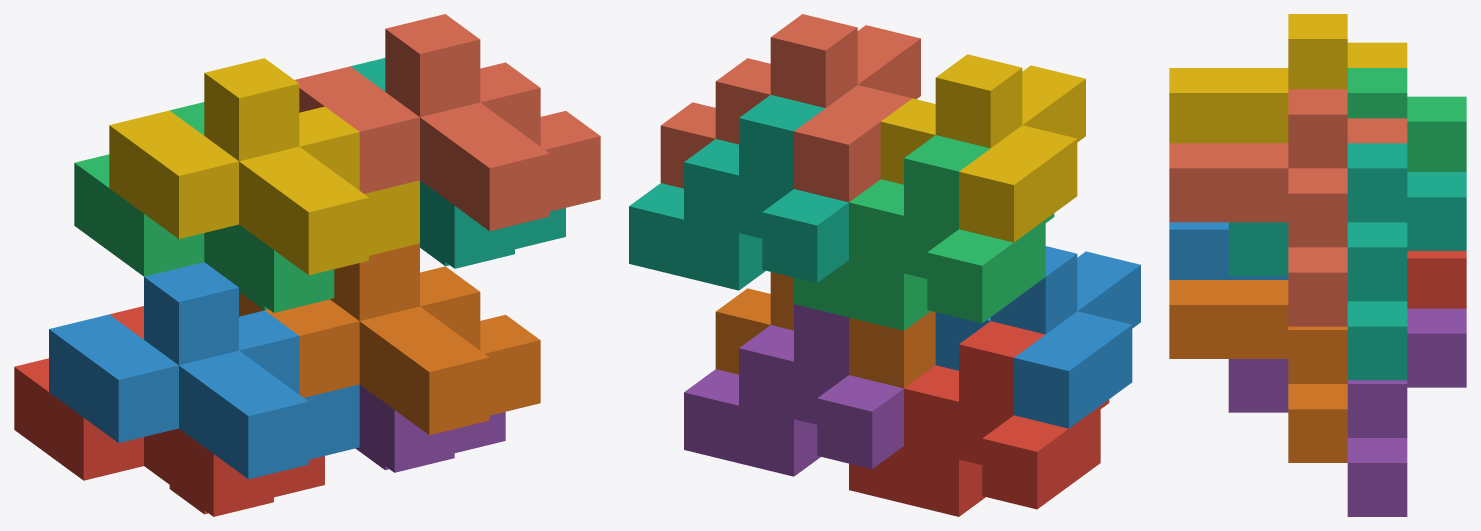
The model's file is tiling.obj.
3 views of the same model, side by side, from view 1: azimuth 30°, elevation 25°; view 2: azimuth 150°, elevation 25°; view 3: azimuth 270°, elevation 25° (orthographic). The views are drawn at different scales.
Parts seen in each view (by area): view 1: copy_1_domain_4, copy_1_domain_2, copy_1_domain_8, copy_1_domain_6, copy_1_domain_1, copy_1_domain_3, copy_1_domain_7, copy_1_domain_5; view 2: copy_1_domain_7, copy_1_domain_3, copy_1_domain_1, copy_1_domain_8, copy_1_domain_5, copy_1_domain_4, copy_1_domain_2, copy_1_domain_6; view 3: copy_1_domain_8, copy_1_domain_7, copy_1_domain_6, copy_1_domain_5, copy_1_domain_4, copy_1_domain_3, copy_1_domain_2, copy_1_domain_1.
Part boxes in pixels (box(x1,y1,x2,y2)): copy_1_domain_4: box(109, 58, 419, 275); copy_1_domain_2: box(49, 262, 359, 479); copy_1_domain_8: box(295, 14, 600, 231); copy_1_domain_6: box(239, 243, 540, 434); copy_1_domain_1: box(14, 306, 324, 516); copy_1_domain_3: box(74, 102, 334, 312); copy_1_domain_7: box(351, 58, 565, 268); copy_1_domain_5: box(355, 384, 505, 472); copy_1_domain_7: box(629, 95, 848, 290); copy_1_domain_3: box(794, 135, 1054, 330); copy_1_domain_1: box(849, 321, 1109, 516); copy_1_domain_8: box(660, 14, 920, 202); copy_1_domain_5: box(684, 304, 903, 476); copy_1_domain_4: box(880, 54, 1085, 242); copy_1_domain_2: box(935, 246, 1140, 428); copy_1_domain_6: box(715, 272, 935, 388); copy_1_domain_8: box(1169, 89, 1407, 326); copy_1_domain_7: box(1228, 143, 1466, 380); copy_1_domain_6: box(1169, 280, 1347, 462); copy_1_domain_5: box(1228, 308, 1466, 516); copy_1_domain_4: box(1169, 14, 1407, 143); copy_1_domain_3: box(1347, 68, 1466, 171); copy_1_domain_2: box(1169, 222, 1288, 279); copy_1_domain_1: box(1407, 251, 1466, 308).
Bounding box in the file's own units: 8 × 7 × 5.
